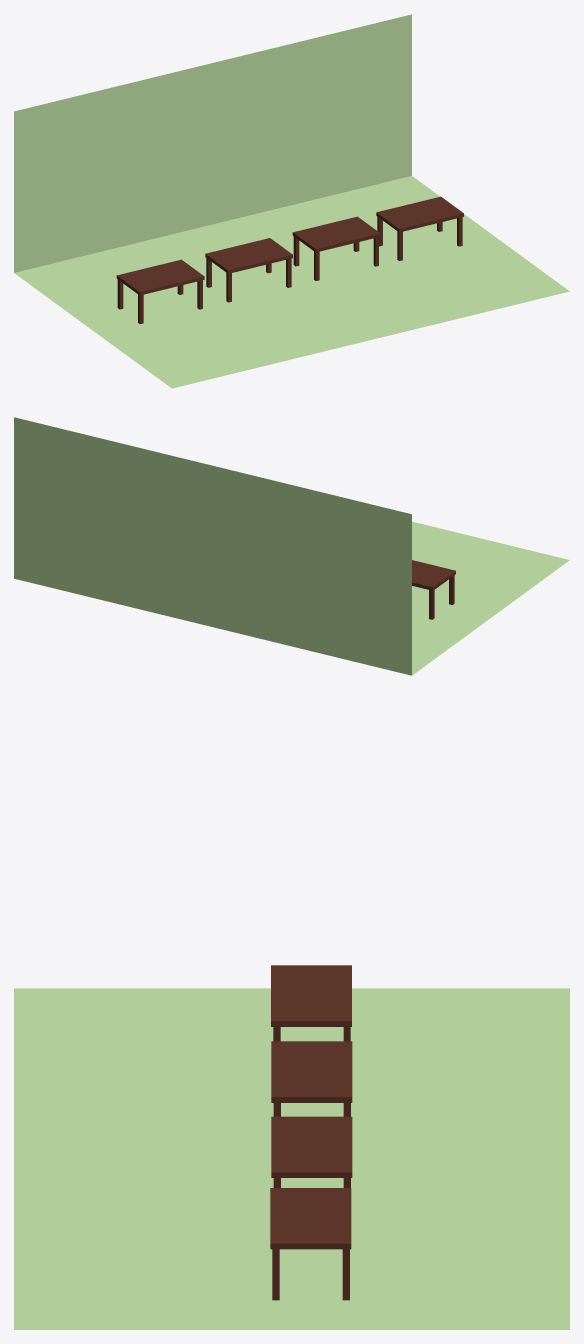
Rendered from bgSaluran.gltf.
3 renders of one model, top to bottom at view 1: azimuth 30°, elevation 25°; view 2: azimuth 150°, elevation 25°; view 3: azimuth 270°, elevation 25°, orthographic. The views are drawn at different scales.
Parts seen in each view (by area): view 1: BG, Cube.011, Cube.021, Cube.026, Cube.016; view 2: BG, Cube.011; view 3: BG, Cube.026, Cube.016, Cube.021, Cube.011.
Boxes of the visible parts, <box> form: BG: <box>14,14,569,388</box>; Cube.011: <box>116,259,204,295</box>; Cube.021: <box>292,216,380,252</box>; Cube.026: <box>205,238,292,273</box>; Cube.016: <box>376,196,463,232</box>; BG: <box>14,417,569,675</box>; Cube.011: <box>412,560,455,590</box>; BG: <box>14,988,569,1329</box>; Cube.026: <box>271,1041,352,1102</box>; Cube.016: <box>270,1188,351,1249</box>; Cube.021: <box>271,1116,352,1177</box>; Cube.011: <box>271,965,351,1026</box>.
Bounding box in the file's own units: 9.35 × 3.62 × 6.43.
